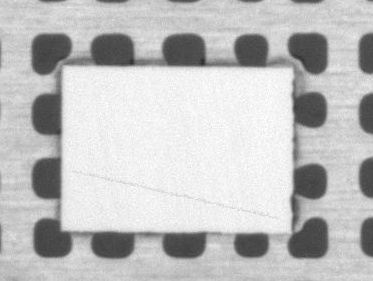DIE_CRACK: (98, 129, 369, 164)
